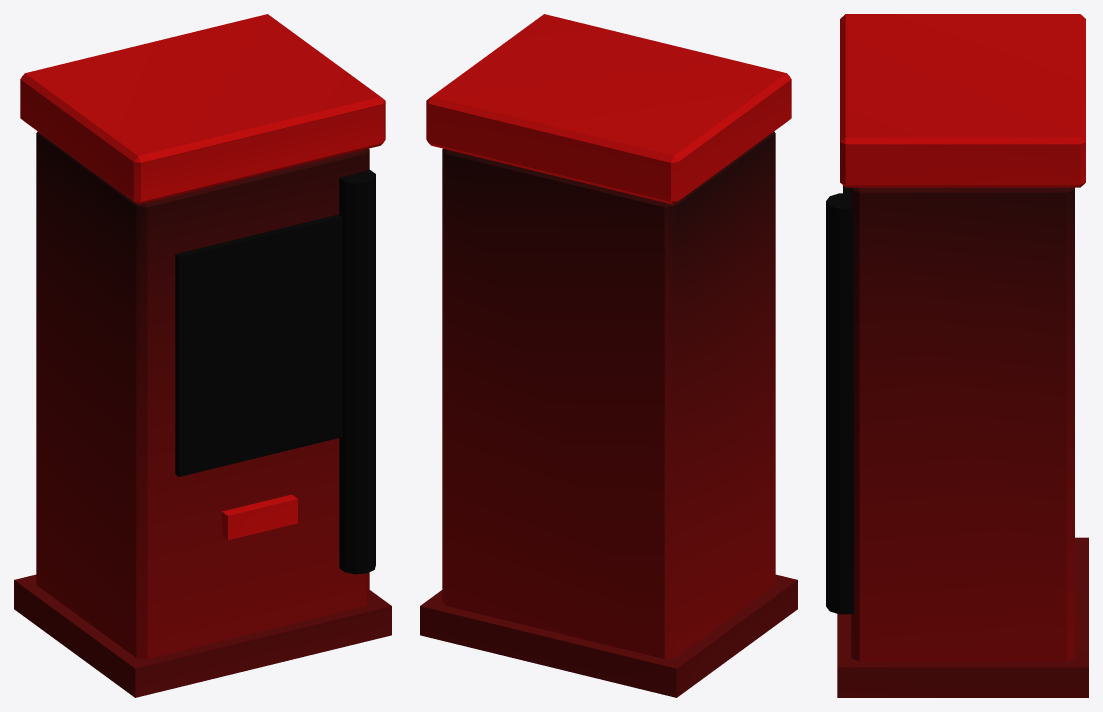
File: machine_placeholder.glb
The picture shows the model from 3 angles, left to right: view 1: azimuth 30°, elevation 25°; view 2: azimuth 150°, elevation 25°; view 3: azimuth 270°, elevation 25°; orthographic projection. The views are drawn at different scales.
Visible parts, largest first — view 1: machine_placeholder, EnergyTube; view 2: machine_placeholder; view 3: machine_placeholder, EnergyTube.
Boxes of the visible parts, x1=… form: machine_placeholder: x1=14, y1=14, x2=391, y2=697; EnergyTube: x1=339, y1=169, x2=375, y2=574; machine_placeholder: x1=420, y1=14, x2=797, y2=697; machine_placeholder: x1=837, y1=14, x2=1088, y2=697; EnergyTube: x1=826, y1=193, x2=853, y2=614.
Size of what is drawn, in the model's own units: 1.1 by 2.2 by 0.94.
